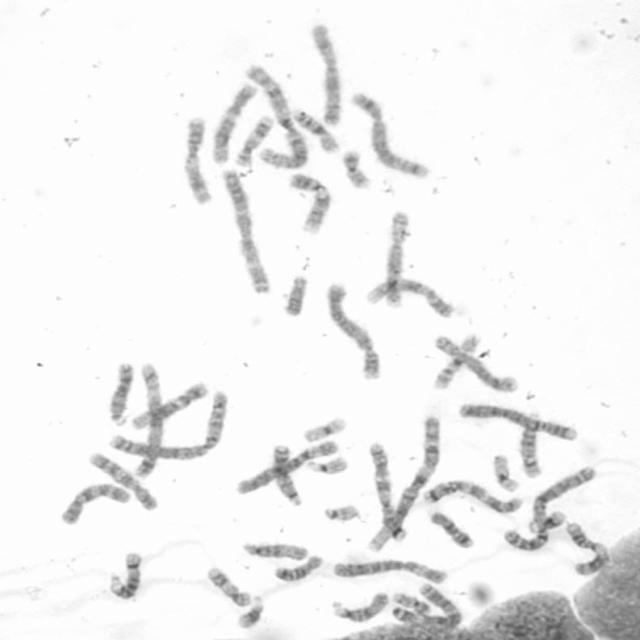A1: (365, 416, 444, 555), (240, 63, 310, 169)
A2: (106, 389, 232, 461), (500, 465, 596, 551)
A3: (221, 168, 272, 293), (392, 582, 464, 630)
B4: (324, 283, 382, 380), (457, 400, 580, 443)
B5: (349, 92, 431, 180), (133, 362, 164, 478)
C10: (89, 451, 160, 512), (60, 482, 132, 526)
C11: (183, 115, 215, 204), (564, 521, 610, 576)
C12: (209, 81, 261, 166), (129, 382, 210, 432)
C6: (232, 438, 340, 498), (333, 560, 447, 586)
C7: (366, 443, 408, 542), (422, 479, 529, 514)
C8: (434, 334, 522, 393), (383, 210, 412, 309)
C9: (364, 278, 458, 320), (287, 171, 334, 237)
D13: (269, 443, 302, 507), (109, 361, 134, 427)
D14: (107, 550, 146, 600), (516, 411, 544, 478)
D15: (330, 591, 389, 623), (241, 540, 310, 562)
E16: (432, 330, 482, 392), (290, 109, 342, 156)
E17: (232, 114, 276, 169), (203, 564, 251, 607)
E18: (430, 510, 474, 550), (274, 554, 322, 583)
F19: (300, 417, 349, 444), (490, 454, 520, 494)
F20: (337, 147, 378, 190), (392, 591, 433, 616)
G21: (235, 595, 265, 630), (528, 508, 567, 534)
G22: (304, 455, 353, 477), (323, 503, 362, 523)
X: (309, 22, 346, 126)
Y: (283, 273, 310, 316)
